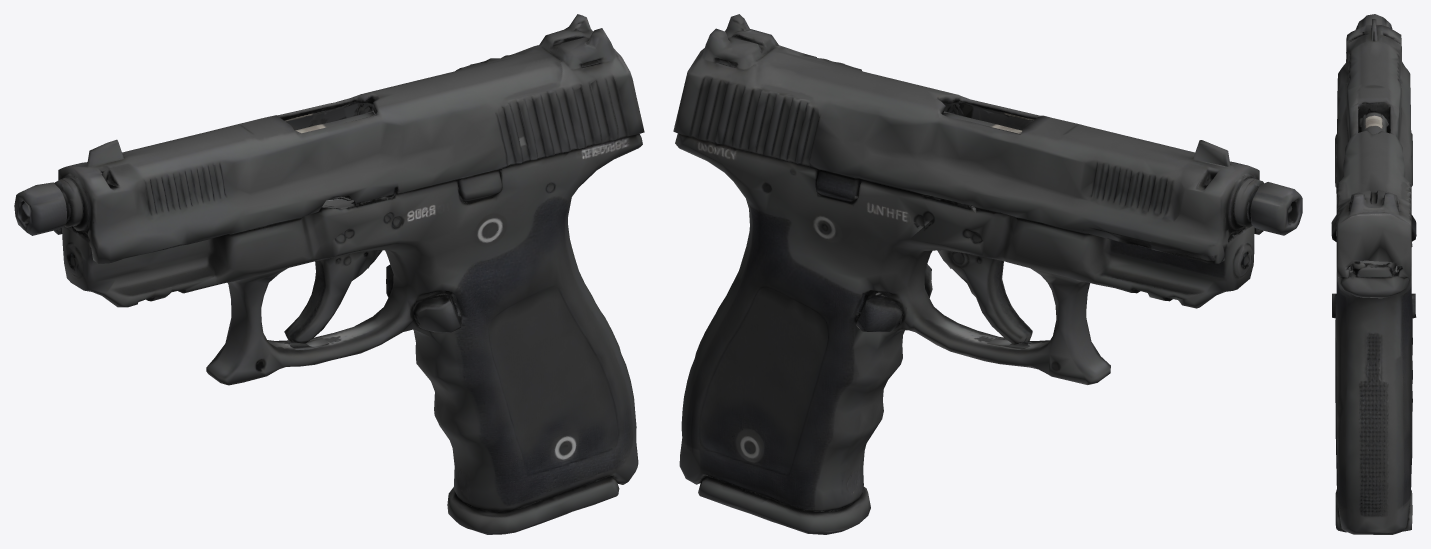
Rendered from Gun.obj.
3 renders of one model, left to right at view 1: azimuth 30°, elevation 25°; view 2: azimuth 150°, elevation 25°; view 3: azimuth 270°, elevation 25°, orthographic. The views are drawn at different scales.
Visible parts, largest first — view 1: Gun; view 2: Gun; view 3: Gun.
Part boxes in pixels (bbox=[...]): Gun: bbox=[14, 14, 644, 534]; Gun: bbox=[673, 14, 1302, 534]; Gun: bbox=[1331, 14, 1416, 534].
Size of the model in its own units: 1.91 by 1.42 by 0.3159.
Materials: 1 (1 with a texture image).
